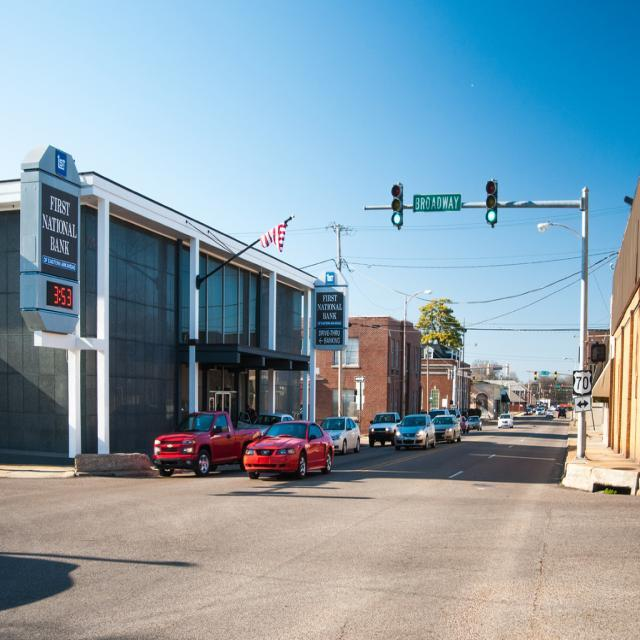traffic light: (486, 178, 499, 228), (390, 182, 403, 231)
